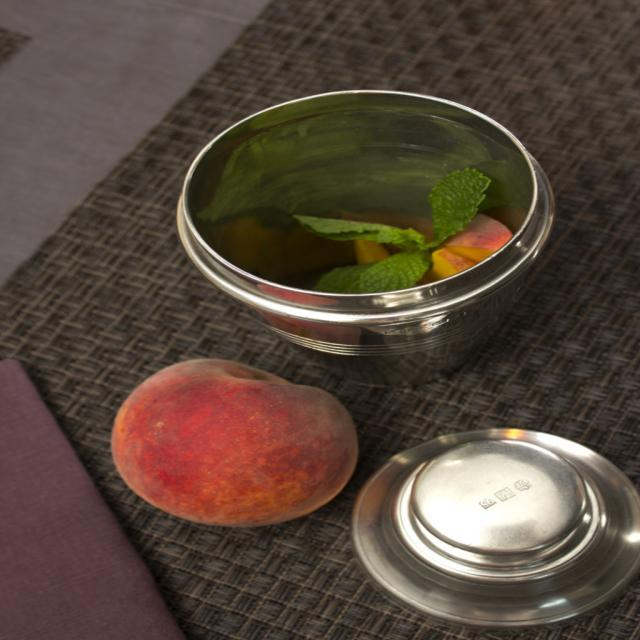Peach: (109, 359, 360, 529), (356, 211, 510, 281)
